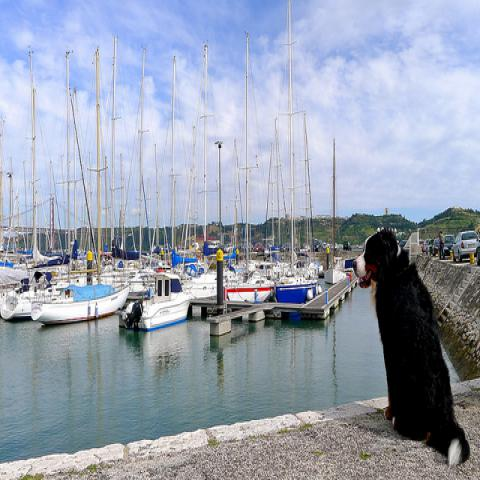car: (452, 230, 479, 262), (443, 233, 456, 256), (431, 238, 440, 258), (422, 238, 432, 256), (419, 240, 424, 249)
